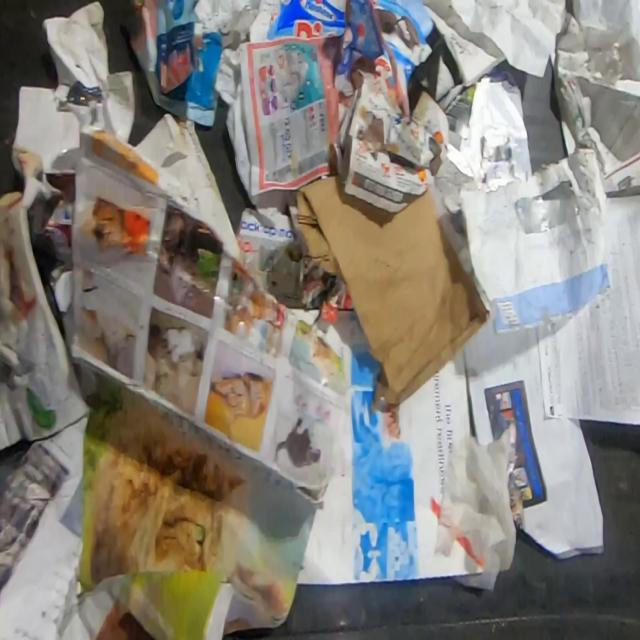cardboard: (294, 173, 492, 406), (263, 0, 384, 96), (375, 0, 434, 84)
